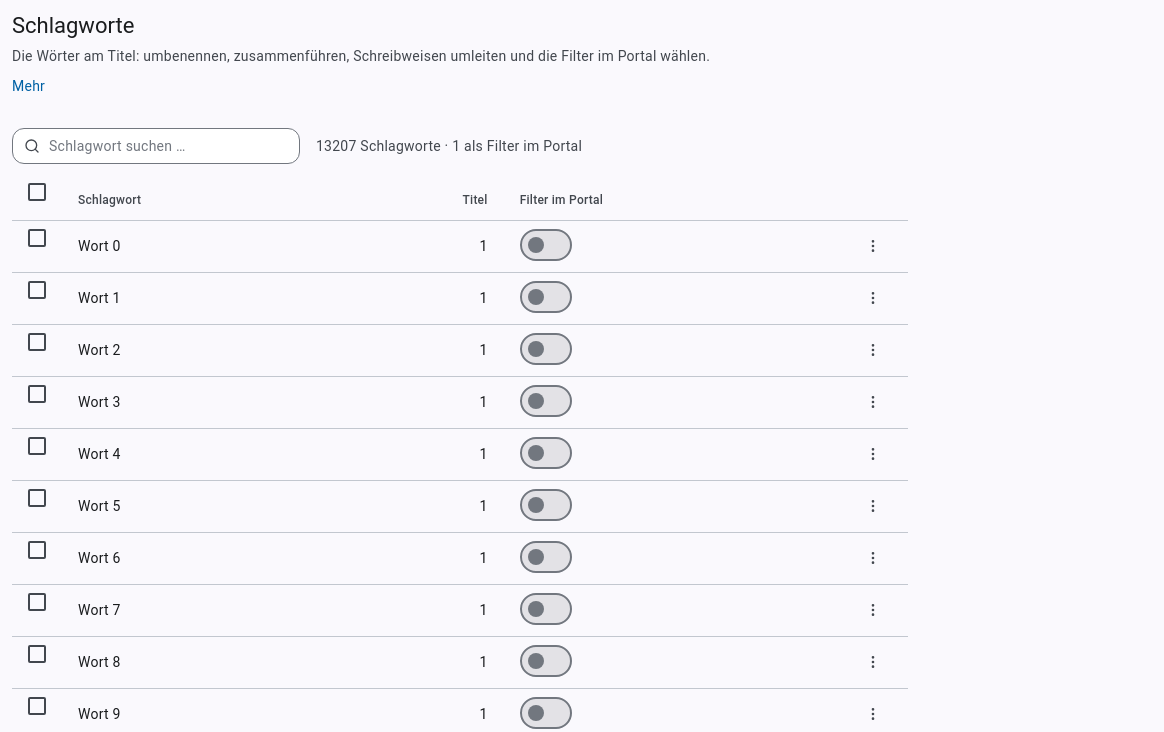
Scenario: SchlagworteKategorie › sucht am Server und sagt, wie viele Wörter passen
Type "zwerg" into the search field labelled "Schlagwort suchen" at (156, 146), box [12,128,300,164]
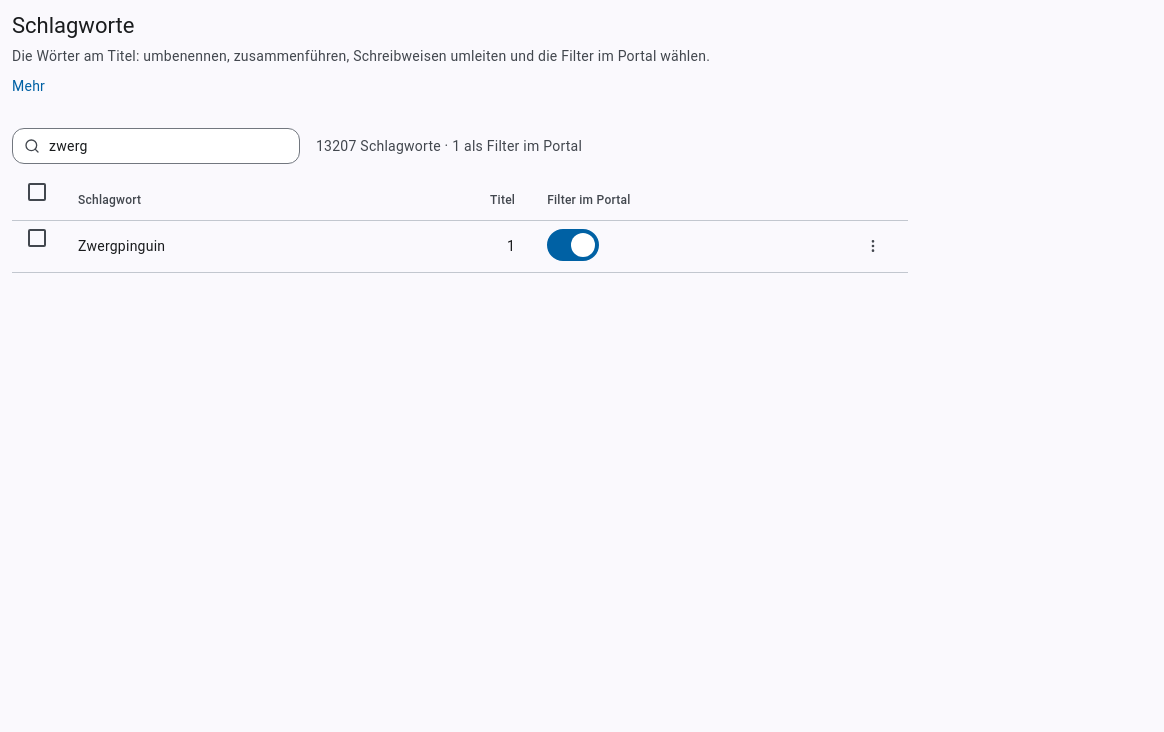
expect the text "Zwergpinguin" is shown: met, box [78,238,165,254]
